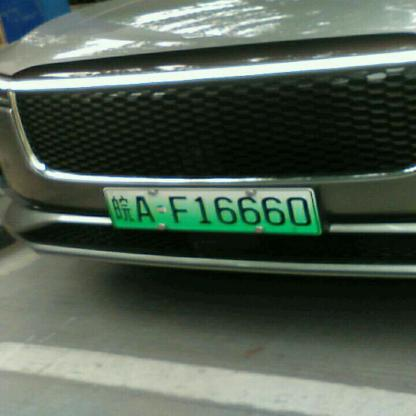lp: (104, 189, 320, 232)
